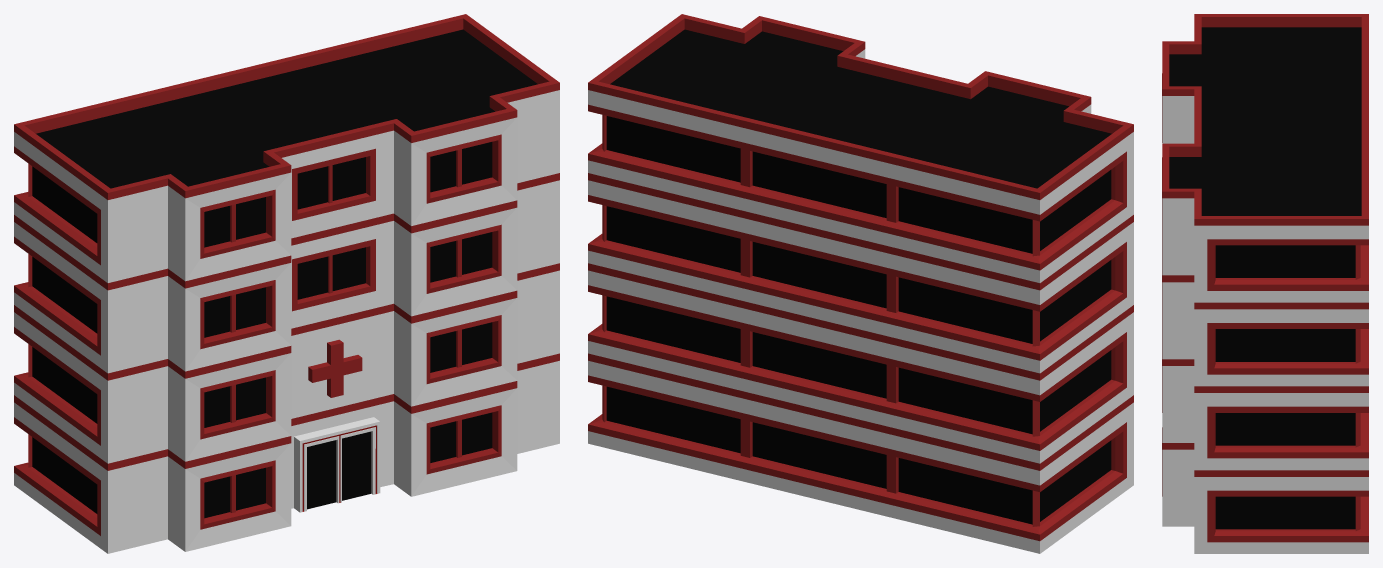
The model's file is BlockOfFlats9.fbx.
3 views of the same model, side by side, from view 1: azimuth 30°, elevation 25°; view 2: azimuth 150°, elevation 25°; view 3: azimuth 270°, elevation 25° (orthographic). The views are drawn at different scales.
Visible parts, largest first — view 1: Cube.007; view 2: Cube.007; view 3: Cube.007.
Boxes of the visible parts, bbox=[...] form: Cube.007: bbox=[14, 14, 559, 553]; Cube.007: bbox=[588, 14, 1133, 553]; Cube.007: bbox=[1162, 14, 1368, 553].
Size of the model in its own units: 8522 by 6502 by 3634.
